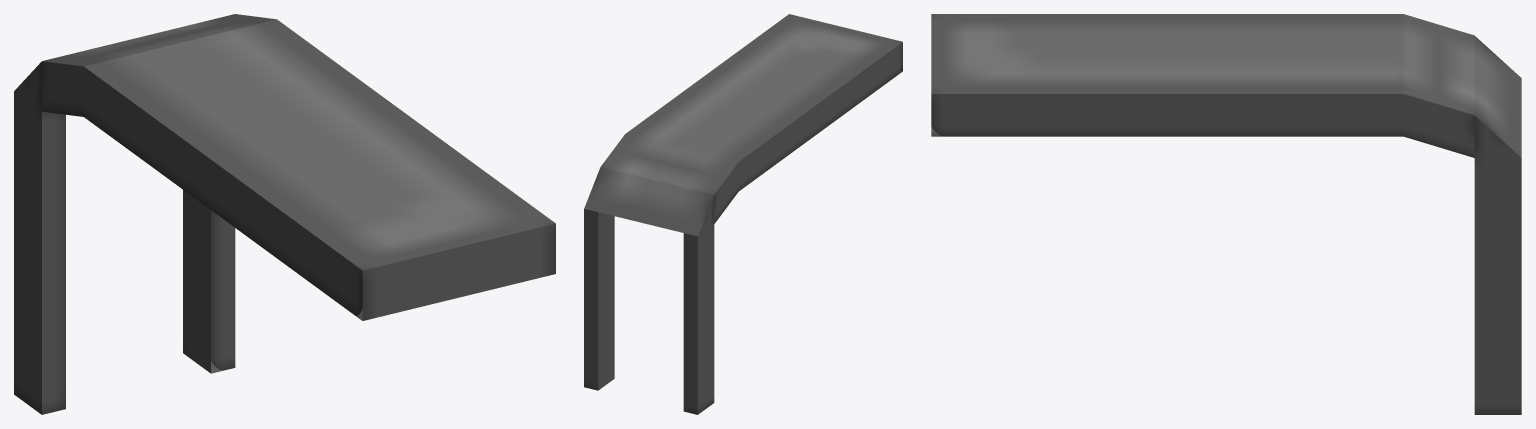
Rendered from revolver_latch.obj.
3 views of the same model, side by side, from view 1: azimuth 30°, elevation 25°; view 2: azimuth 150°, elevation 25°; view 3: azimuth 270°, elevation 25° (orthographic). The views are drawn at different scales.
Visible parts, largest first — view 1: Latch; view 2: Latch; view 3: Latch.
Part boxes in pixels (x1,y1,x2,y2): Latch: [14, 14, 555, 414]; Latch: [584, 14, 902, 414]; Latch: [931, 14, 1521, 414].
Size of the model in its own units: 1 by 1.88 by 3.12.
